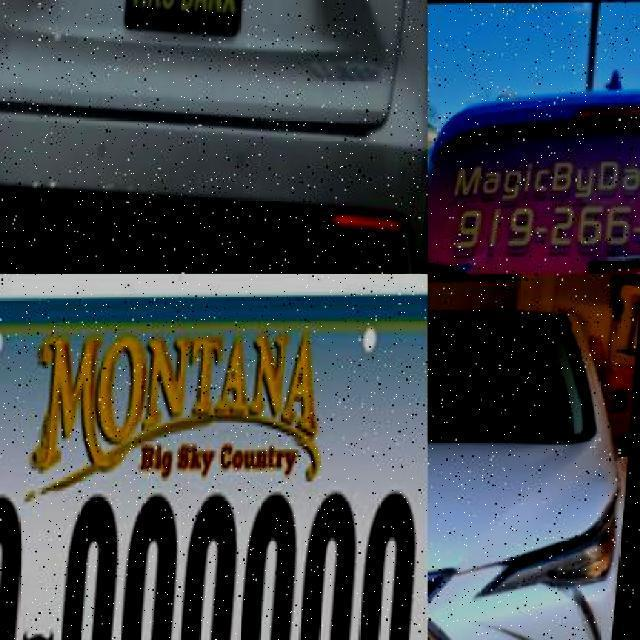LicensePlate: (0, 472, 428, 640), (128, 0, 254, 55)
